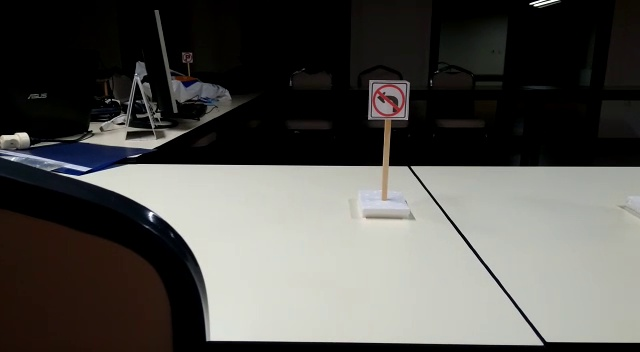sola_donulmez: (365, 77, 410, 120)
